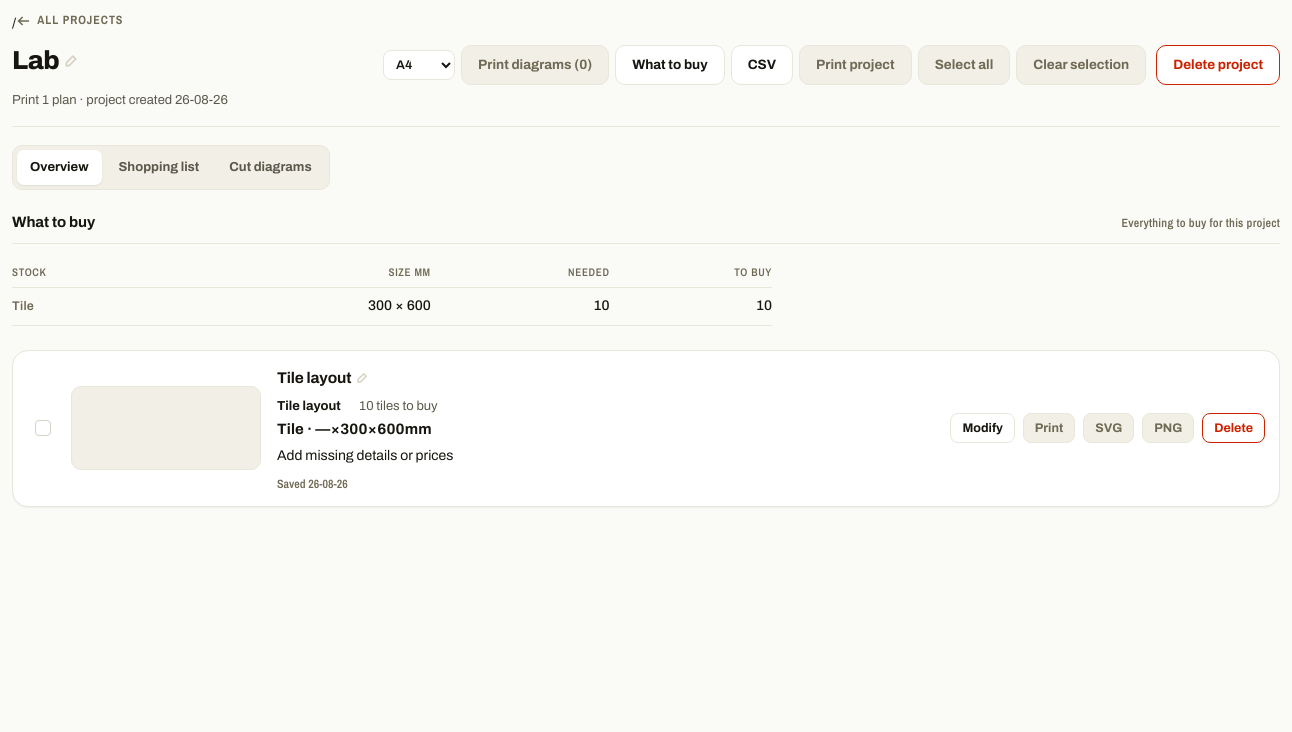
Scenario: shows a tile shopping list and keeps the tile cutlist
Expected: the heading "What to buy" is shown, [12,212,95,233]
Expected: the text "300 × 600" is shown, [161,288,431,325]
Click the button "Cut diagrams" at (270, 167), box [216,150,325,185]
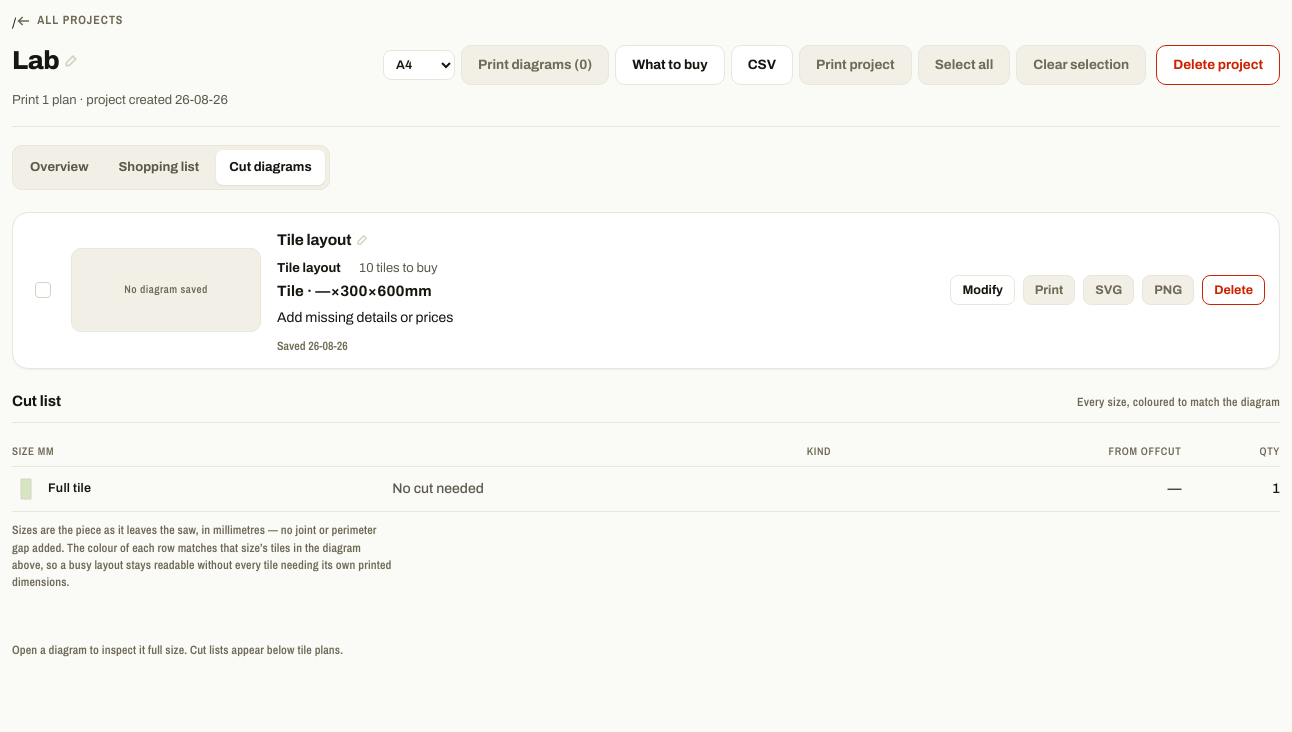
Now the heading "Cut list" is shown, box [12,391,61,412]
